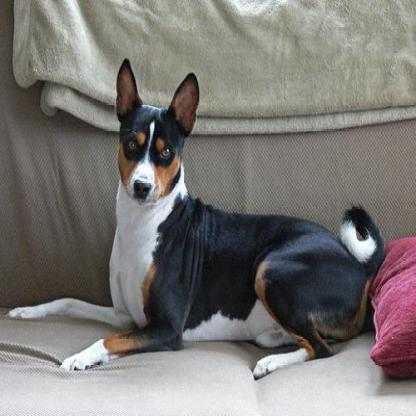basenji: (7, 54, 385, 374)
